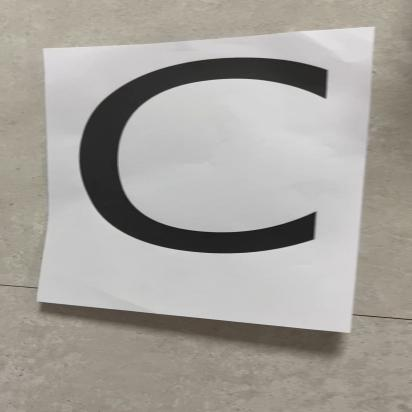seat: (39, 23, 385, 339)
